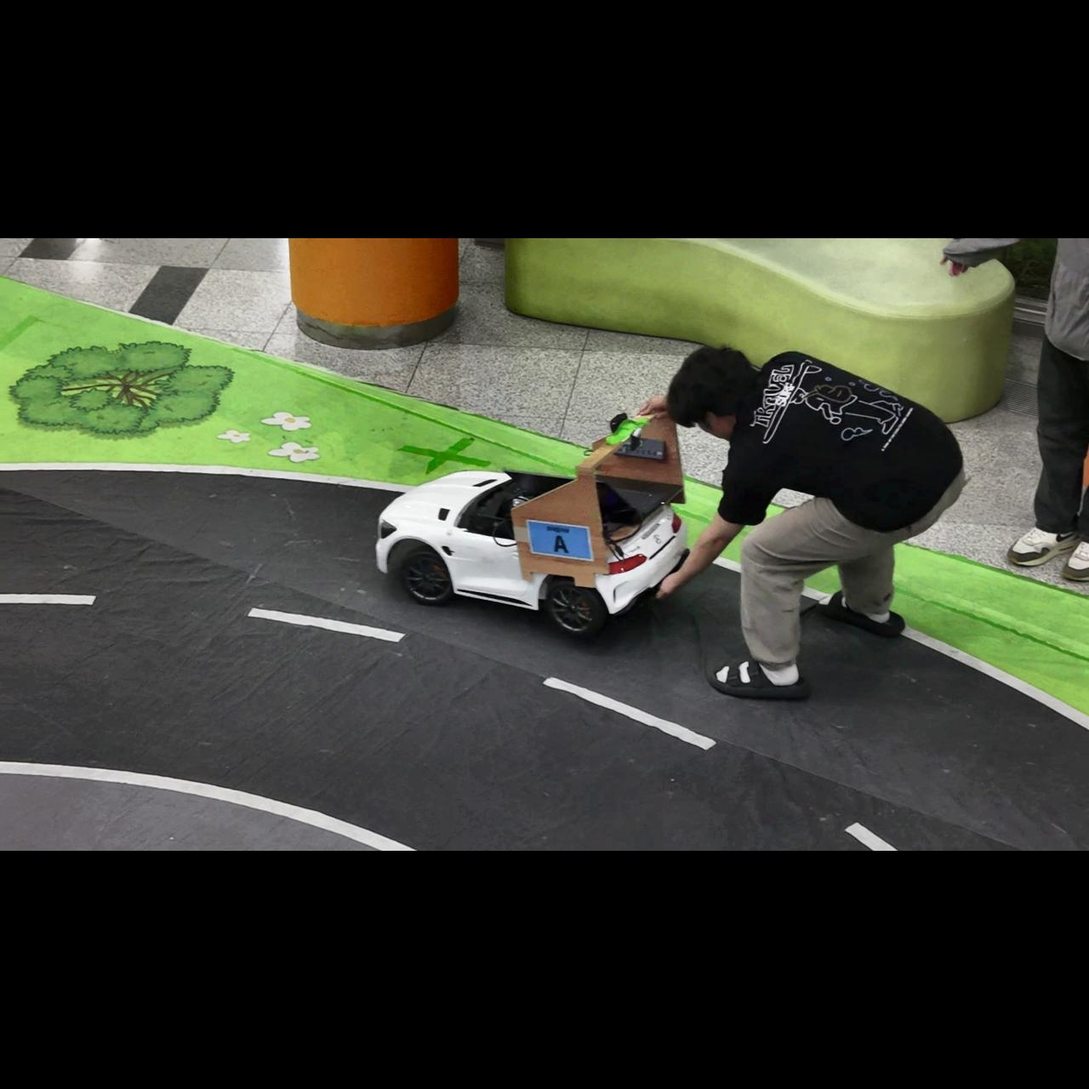broken_line: (543, 677, 716, 750), (247, 607, 406, 642), (844, 822, 898, 850), (0, 594, 97, 605)
